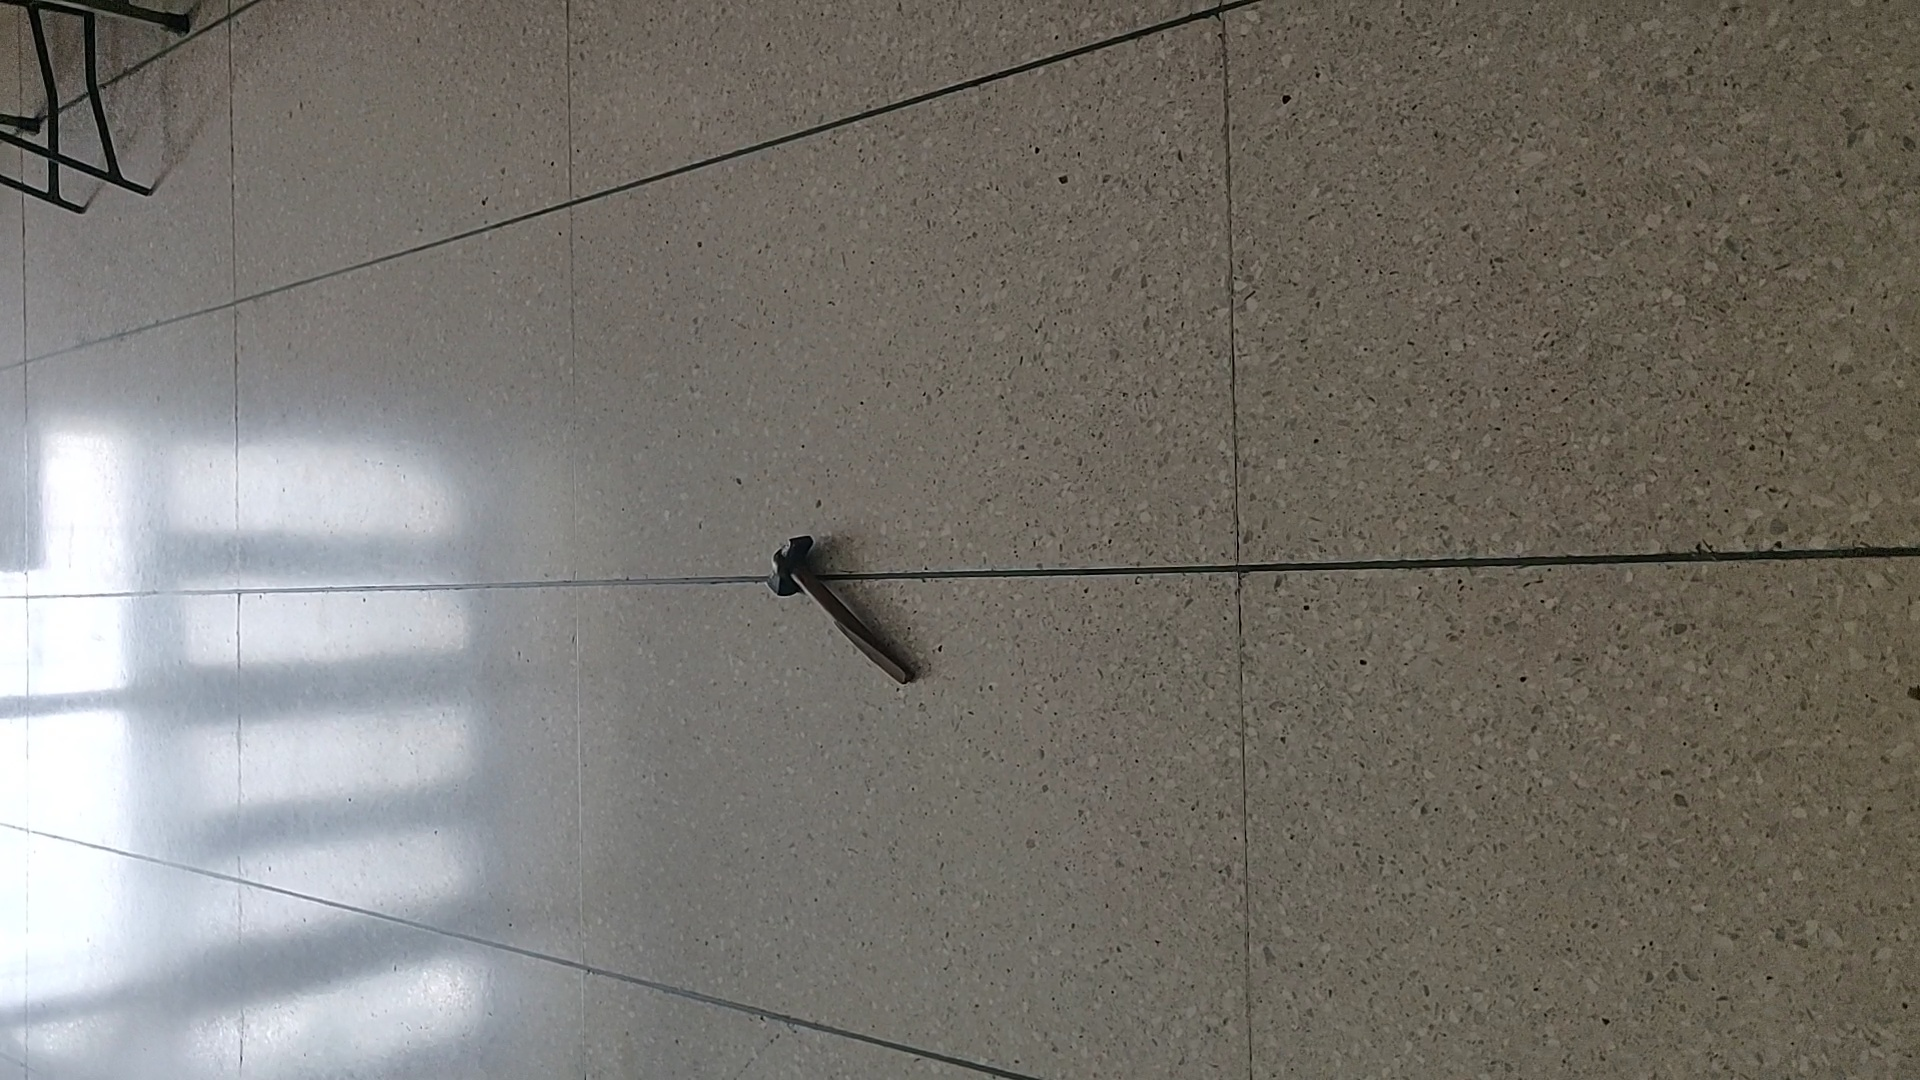hammer: (760, 531, 915, 687)
